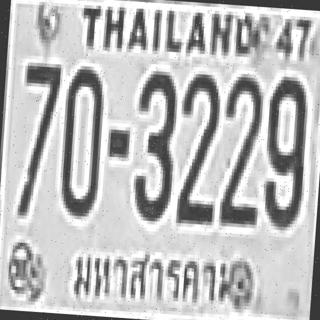N00: (58, 65, 104, 217)
N02: (174, 78, 222, 223), (216, 72, 263, 214), (173, 71, 221, 210), (218, 72, 262, 200)
N03: (129, 66, 177, 218)
N07: (15, 60, 61, 212)
N09: (259, 74, 310, 226)
P25: (70, 234, 242, 320)
